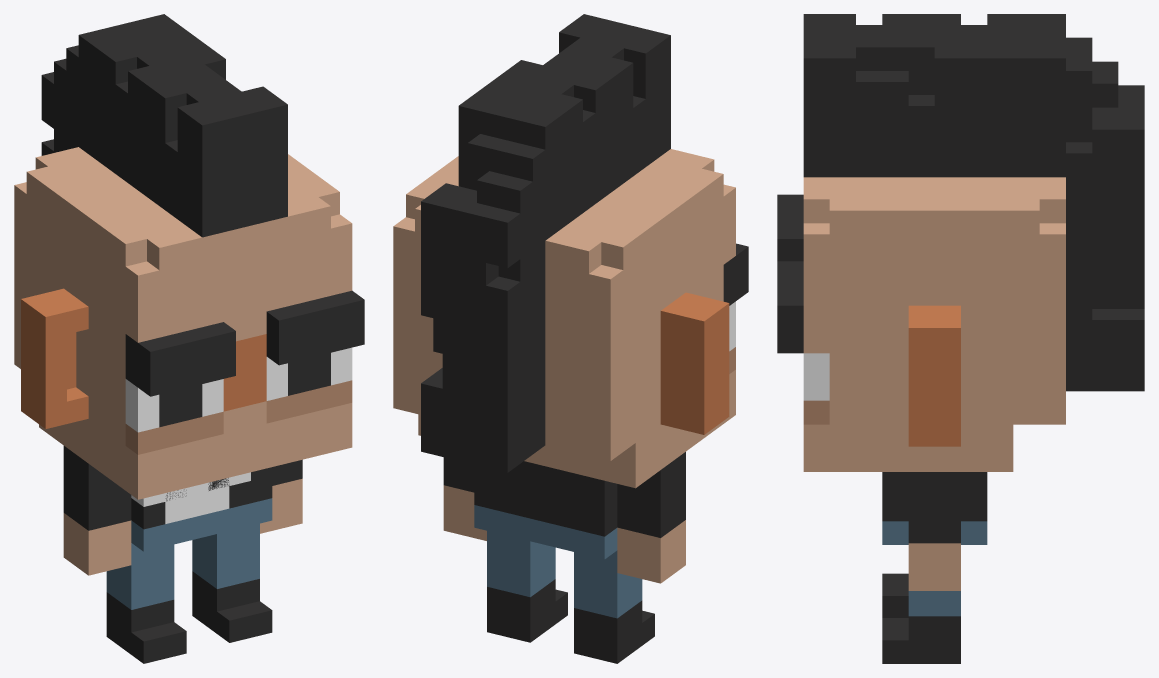
3 views of the same model, side by side, from view 1: azimuth 30°, elevation 25°; view 2: azimuth 150°, elevation 25°; view 3: azimuth 270°, elevation 25° (orthographic). The views are drawn at different scales.
Visible parts, largest first — view 1: Object_0; view 2: Object_0; view 3: Object_0.
Part boxes in pixels (bbox=[...]): Object_0: bbox=[14, 14, 364, 663]; Object_0: bbox=[393, 14, 748, 663]; Object_0: bbox=[777, 14, 1144, 663].
Bounding box in the file's own units: 0.952 × 1.7 × 0.952.
Materials: 1 (1 with a texture image).
